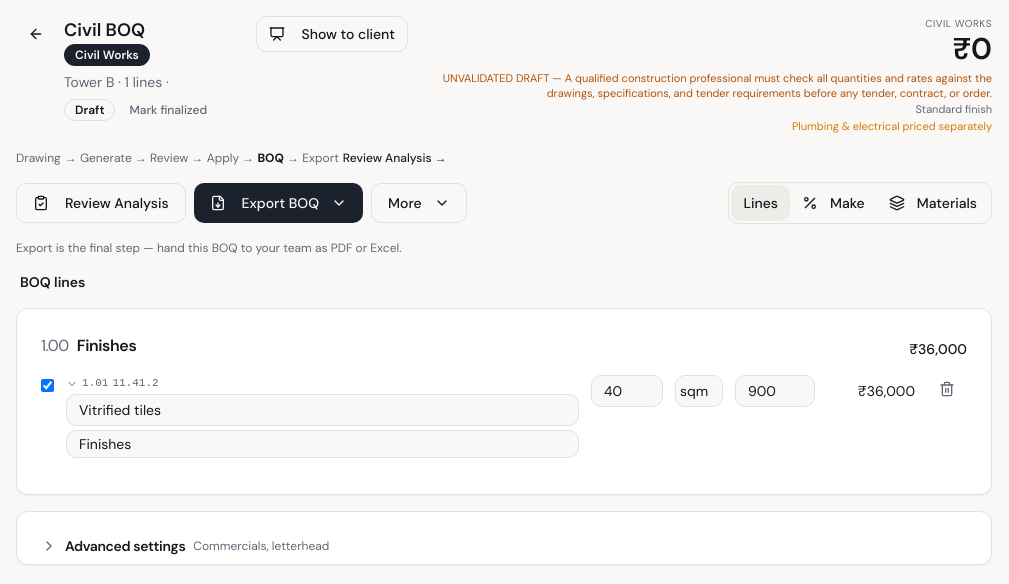
Scenario: OpsBoqBuilder — working BOQ status › if the status changed elsewhere, doesn't overwrite it and shows the saved value
Click the button "Mark finalized": (168, 110) [122, 98, 215, 122]
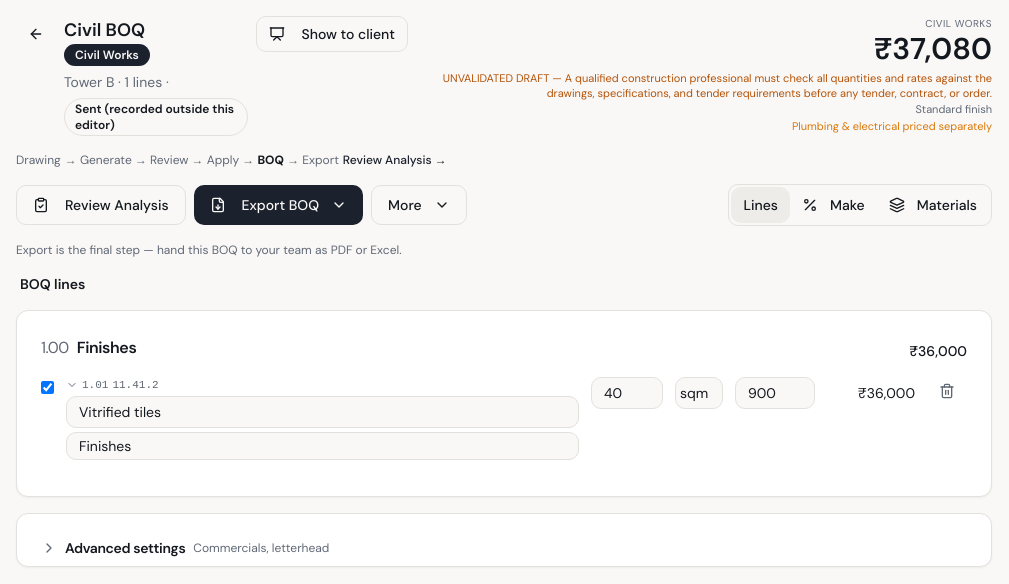
Result: the element with test id "boq-status" reads "Sent (recorded outside this editor)" at [75, 101, 234, 133]
Result: the button "Mark finalized" is gone
